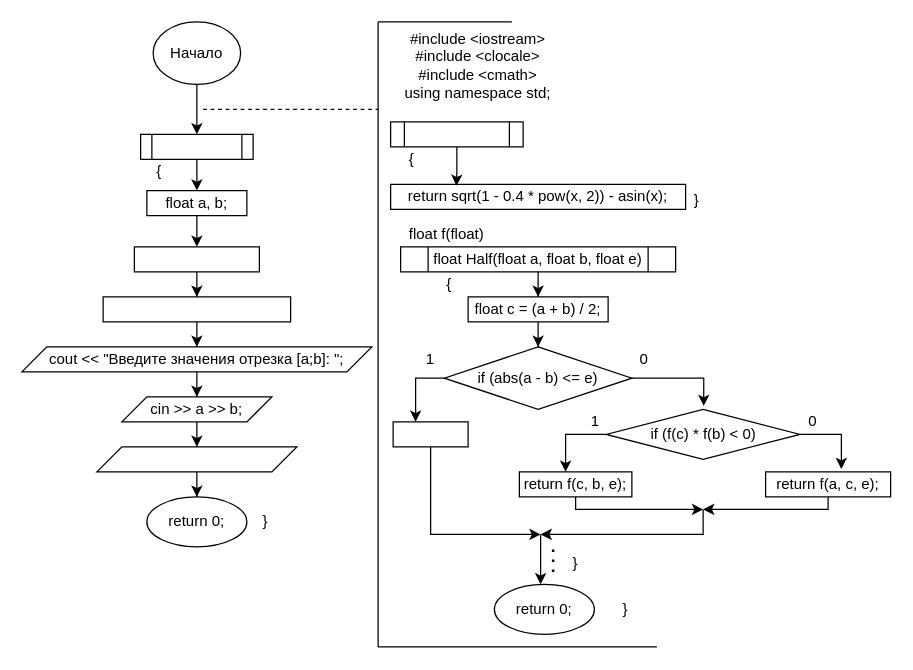
The diagram is 913 pixels wide and 670 high, and some of its shapes have lost their labels. Here are the shapes that lost their labels. From the top down, the box of each, then its label:
(139, 133, 253, 159): int main()
(389, 121, 523, 147): float f(float x)
(133, 246, 259, 272): float e = 0.001;
(102, 296, 291, 322): setlocale(LC_ALL,"rus");
(392, 421, 468, 447): return c;
(96, 446, 297, 472): cout << Half(a, b, e);
